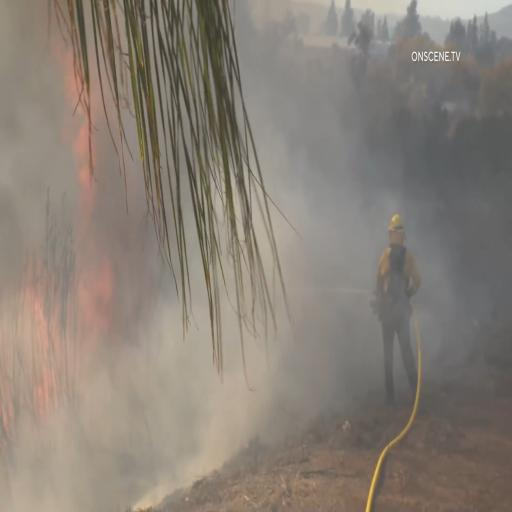smoke: (2, 4, 59, 258), (260, 8, 344, 180), (118, 290, 183, 470), (23, 433, 105, 503)
